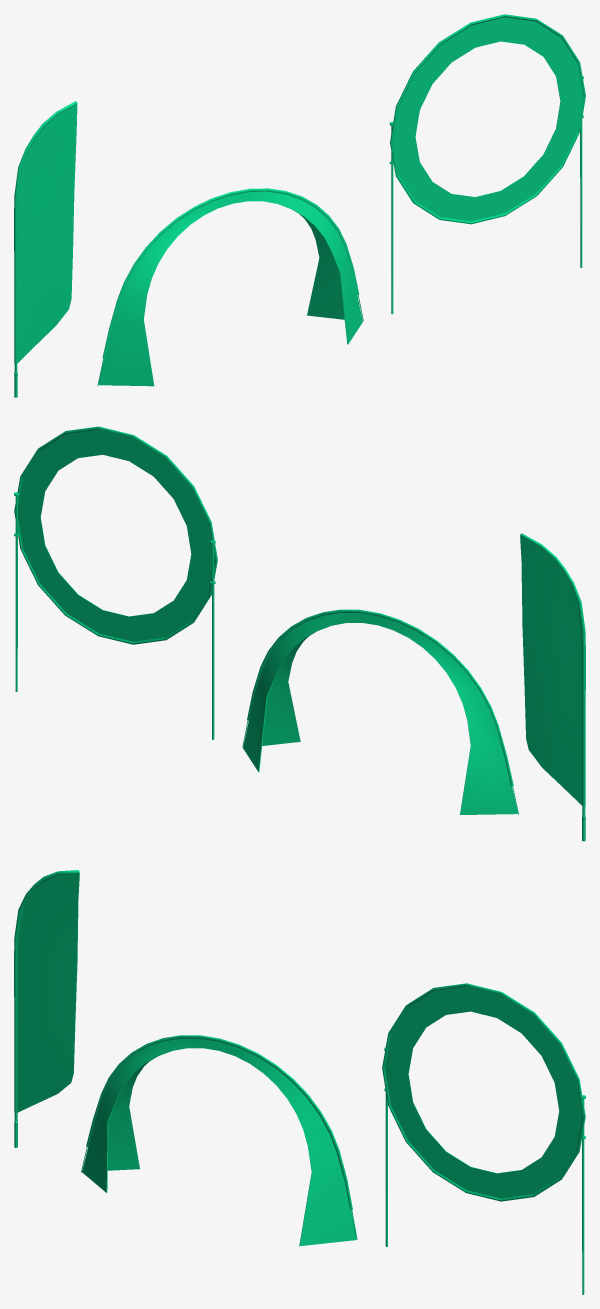
File: Quadcopters AirGate Pack FBX.FBX
The picture shows the model from 3 angles, top to bottom: view 1: azimuth 30°, elevation 25°; view 2: azimuth 150°, elevation 25°; view 3: azimuth 330°, elevation 25°; orthographic projection. The views are drawn at different scales.
Visible parts, largest first — view 1: GATE_Round, GATE_Tall, GATE_Regular; view 2: GATE_Round, GATE_Tall, GATE_Regular; view 3: GATE_Round, GATE_Tall, GATE_Regular.
Part boxes in pixels (x1,y1,x2,y2): GATE_Round: (389,14,585,314); GATE_Tall: (14,101,77,397); GATE_Regular: (97,188,363,386); GATE_Round: (14,426,217,739); GATE_Tall: (520,533,585,841); GATE_Regular: (242,609,518,814); GATE_Round: (382,983,585,1294); GATE_Tall: (14,870,79,1147); GATE_Regular: (81,1035,357,1246).
Size of the model in its own units: 295 by 141 by 36.97.
